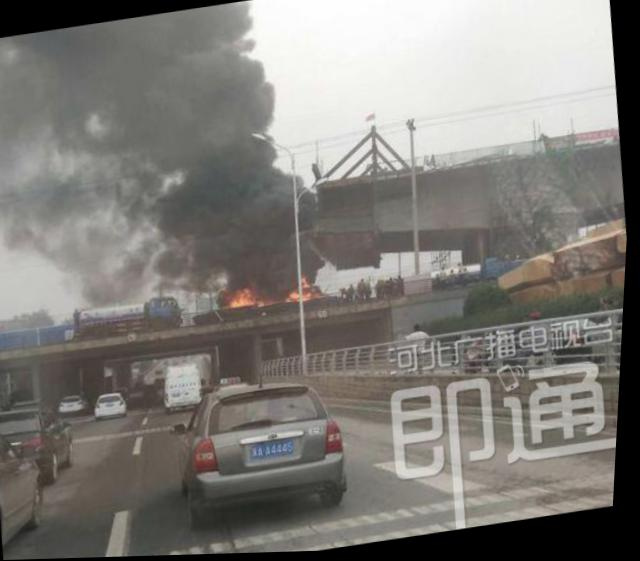fire: (222, 285, 256, 311), (303, 277, 315, 303), (287, 288, 299, 303)
